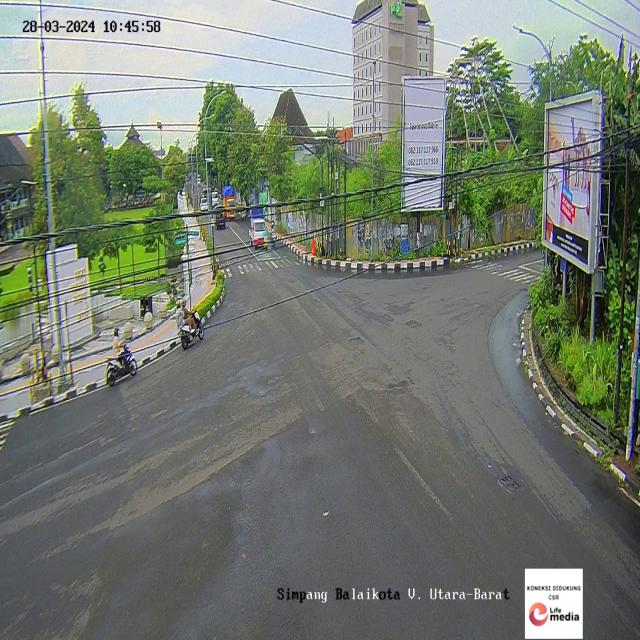car: (270, 214, 277, 250)
motorcycle: (105, 326, 138, 379), (176, 294, 209, 344)
truck: (250, 218, 269, 252), (222, 188, 236, 222), (215, 205, 225, 233)
